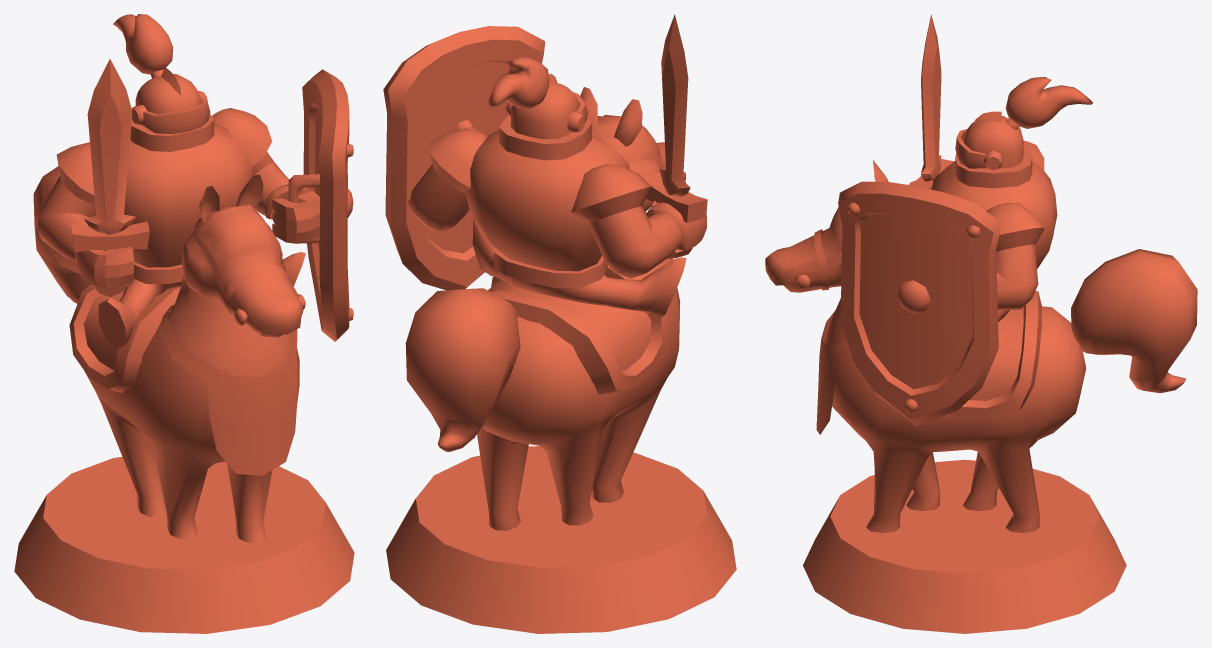
The model's file is cavalier2.fbx.
3 views of the same model, side by side, from view 1: azimuth 30°, elevation 25°; view 2: azimuth 150°, elevation 25°; view 3: azimuth 270°, elevation 25° (orthographic). The views are drawn at different scales.
Visible parts, largest first — view 1: Cylinder.001, cheval, cavalier, bras, Plane, bouclier_pos, épée_pos, selle, jambes, queue casque, queue cheval; view 2: Cylinder.001, cheval, cavalier, bouclier_pos, bras, queue cheval, selle, épée_pos, jambes, queue casque, Plane; view 3: Cylinder.001, bouclier_pos, cheval, queue cheval, cavalier, selle, bras, épée_pos, queue casque, Plane.
Boxes of the visible parts, x1,y1,x2,y2 form: Cylinder.001: (14,457,354,633); cheval: (84,174,303,542); cavalier: (124,67,252,283); bras: (35,108,319,288); Plane: (157,204,305,475); bouclier_pos: (288,69,353,341); épée_pos: (70,59,149,296); selle: (69,284,180,392); jambes: (98,252,305,348); queue casque: (113,14,173,74); queue cheval: (33,166,90,303); Cylinder.001: (386,446,736,633); cheval: (477,87,680,530); cavalier: (465,73,630,287); bouclier_pos: (383,26,545,290); bras: (407,129,706,278); queue cheval: (405,288,520,451); selle: (488,266,667,394); épée_pos: (642,14,707,258); jambes: (472,219,686,317); queue casque: (487,56,549,108); Plane: (597,116,685,274); Cylinder.001: (803,459,1126,633); bouclier_pos: (838,181,1001,426); cheval: (765,160,1086,532); queue cheval: (1071,249,1197,393); cavalier: (931,111,1057,311); selle: (947,290,1041,418); bras: (909,140,1044,309); épée_pos: (909,14,953,189); queue casque: (1005,77,1092,128); Plane: (795,229,851,434).
Bounding box in the file's own units: 311 × 520 × 400.
